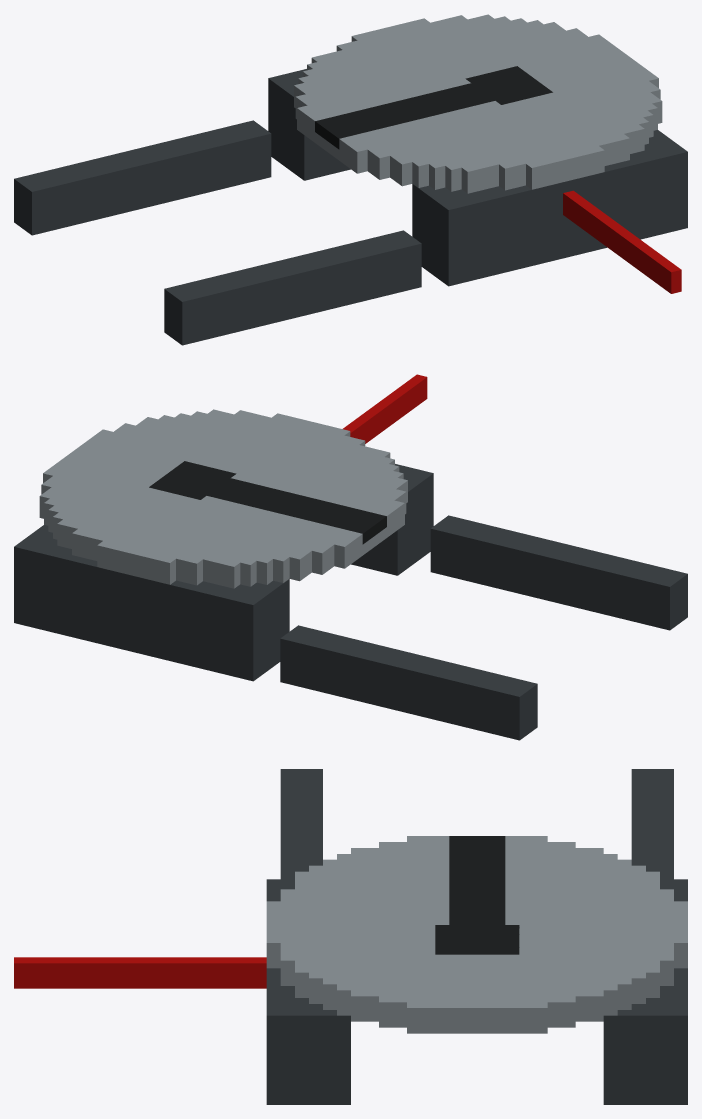
The model's file is semi_tractor_fifth_wheel.glb.
The picture shows the model from 3 angles, top to bottom: view 1: azimuth 30°, elevation 25°; view 2: azimuth 150°, elevation 25°; view 3: azimuth 270°, elevation 25°; orthographic projection. The views are drawn at different scales.
Parts seen in each view (by area): view 1: body:compound; view 2: body:compound; view 3: body:compound.
Boxes of the visible parts, x1,y1,x2,y2 form: body:compound: (14, 14, 687, 345); body:compound: (14, 374, 687, 740); body:compound: (14, 769, 687, 1104).
Bounding box in the file's own units: 1.59 × 0.2812 × 1.5.
